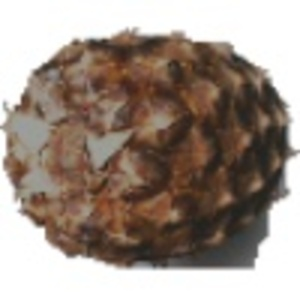abacaxi: (4, 22, 293, 275)
